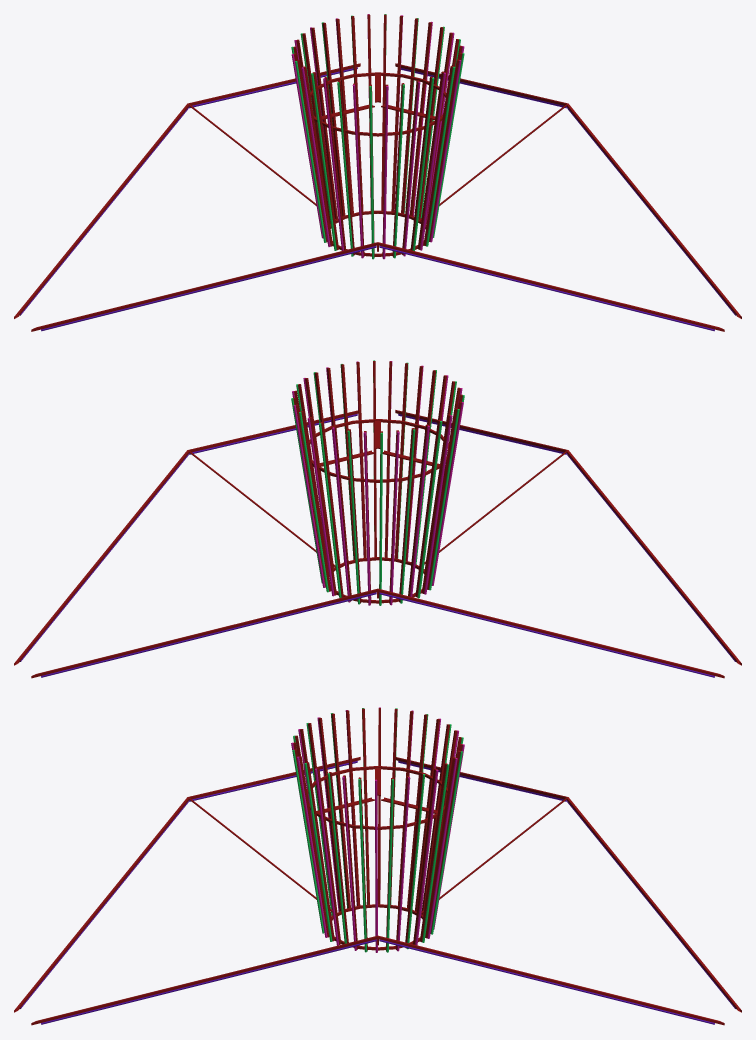
The model's file is addOn_lightCrown.dae.
3 views of the same model, one above another, from view 1: azimuth 30°, elevation 25°; view 2: azimuth 150°, elevation 25°; view 3: azimuth 270°, elevation 25° (orthographic).
Parts seen in each view (by area): view 1: group_0 (×13), instance_2, group_2 (×5), group_1 (×5), group_3 (×2), instance_1, instance_0, main (×2); view 2: group_0 (×11), instance_0, group_2 (×5), group_1 (×5), group_3 (×2), instance_2, instance_1, main (×2); view 3: group_0 (×12), instance_1, group_1 (×4), group_2 (×4), group_3 (×2), instance_2, instance_0, main (×2).
Boxes of the visible parts, bbox=[...] form: group_0 (×13): bbox=[302, 14, 453, 250]; instance_2: bbox=[31, 242, 724, 331]; group_2 (×5): bbox=[295, 61, 455, 259]; group_1 (×5): bbox=[301, 60, 461, 259]; group_3 (×2): bbox=[41, 246, 714, 331]; instance_1: bbox=[395, 63, 741, 318]; instance_0: bbox=[14, 63, 360, 318]; main (×2): bbox=[306, 72, 446, 136]; group_0 (×11): bbox=[301, 361, 457, 597]; instance_0: bbox=[31, 588, 724, 678]; group_2 (×5): bbox=[299, 409, 459, 605]; group_1 (×5): bbox=[293, 402, 463, 605]; group_3 (×2): bbox=[41, 592, 714, 677]; instance_2: bbox=[395, 410, 741, 665]; instance_1: bbox=[14, 410, 358, 665]; main (×2): bbox=[308, 419, 449, 482]; group_0 (×12): bbox=[299, 708, 455, 944]; instance_1: bbox=[31, 935, 724, 1025]; group_1 (×4): bbox=[297, 756, 457, 945]; group_2 (×4): bbox=[292, 749, 462, 942]; group_3 (×2): bbox=[41, 939, 714, 1024]; instance_2: bbox=[14, 757, 360, 1012]; instance_0: bbox=[396, 757, 741, 1012]; main (×2): bbox=[307, 766, 447, 829].
Size of the model in its own units: 254 by 293 by 84.01.
